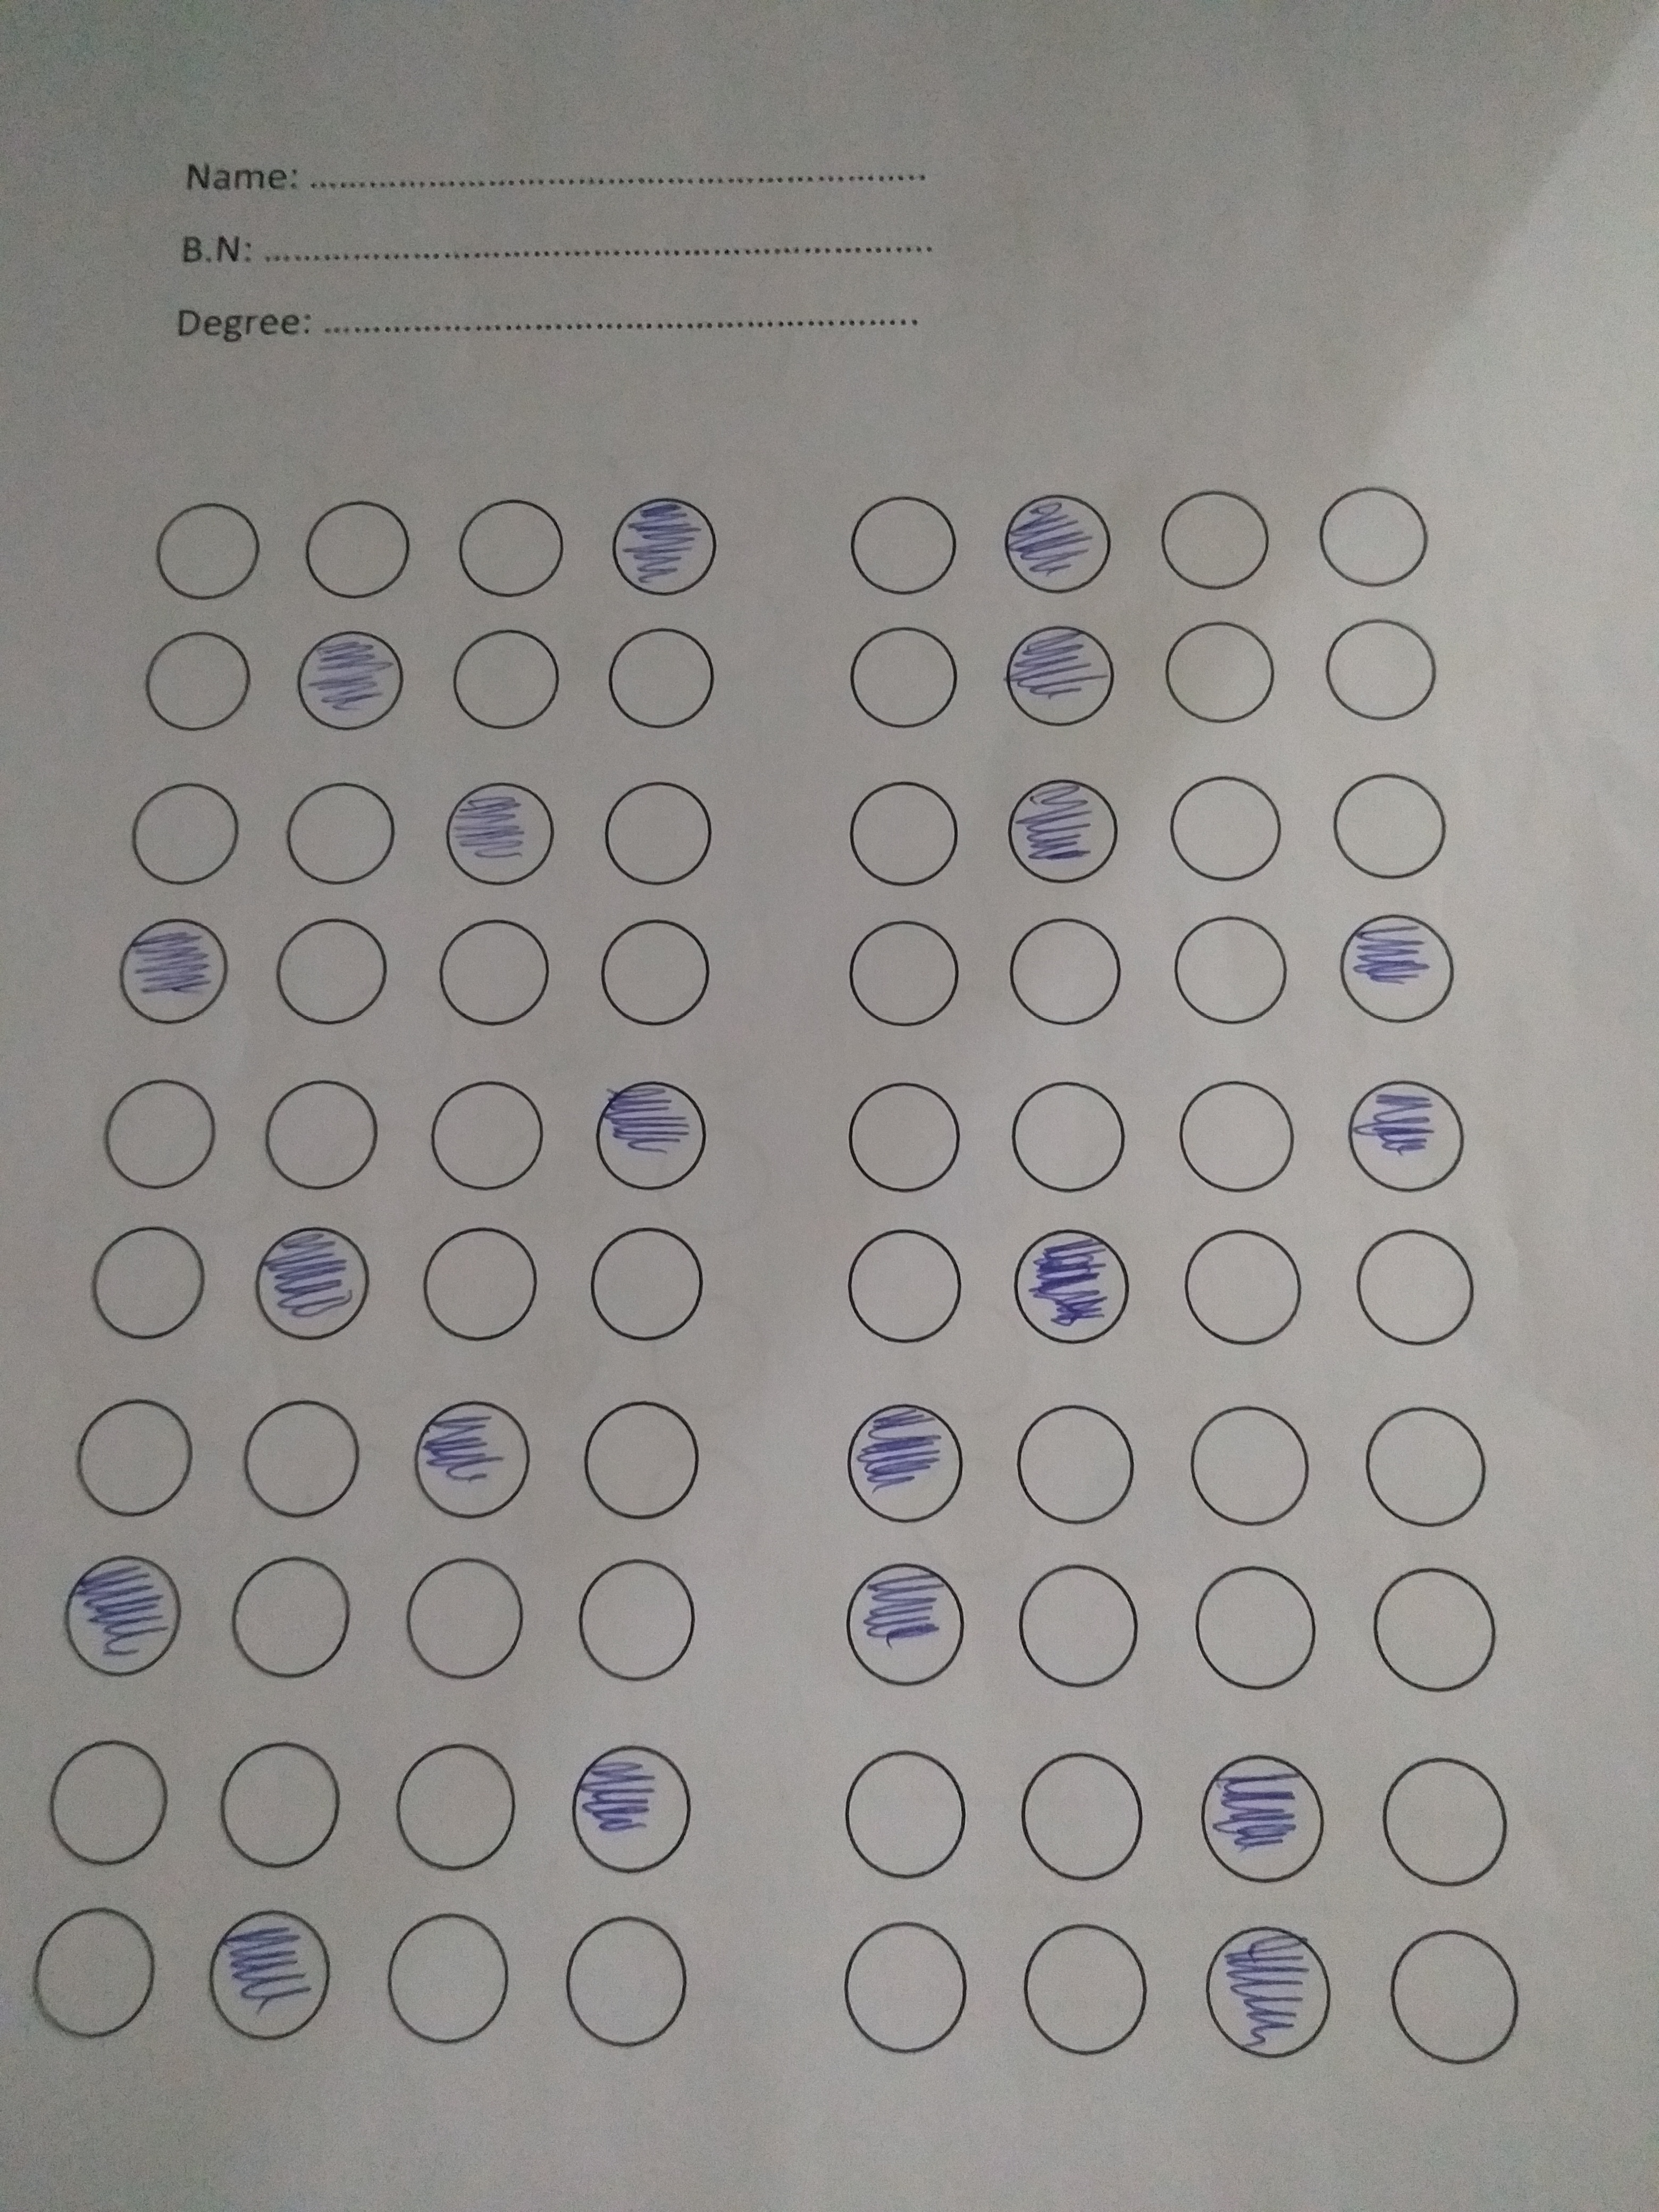not-c: (1021, 1916, 1152, 2062), (1387, 1921, 1518, 2067), (1380, 1747, 1511, 1893), (840, 1914, 971, 2059), (1014, 1747, 1145, 1892), (558, 1905, 688, 2050), (380, 1902, 511, 2047), (214, 1728, 345, 1872), (390, 1733, 521, 1878), (568, 1550, 699, 1695), (842, 1740, 972, 1885), (28, 1905, 157, 2043), (1373, 1561, 1499, 1691), (1014, 1557, 1140, 1688), (71, 1388, 197, 1519), (1195, 1561, 1319, 1691), (1190, 1400, 1314, 1531), (228, 1547, 352, 1677), (239, 1397, 362, 1527), (579, 1397, 702, 1526), (403, 1548, 526, 1677), (1012, 1397, 1136, 1526), (44, 1738, 167, 1867), (1352, 1221, 1478, 1345), (843, 1224, 969, 1348), (1363, 1406, 1490, 1526), (1182, 1226, 1305, 1348), (1175, 1076, 1300, 1195), (1007, 1078, 1136, 1193), (586, 1223, 706, 1343), (420, 1223, 540, 1341), (847, 1078, 969, 1193), (596, 914, 718, 1029), (425, 1080, 549, 1191), (91, 1224, 207, 1341), (840, 489, 962, 601), (1171, 914, 1293, 1026), (1330, 770, 1452, 881), (1159, 617, 1281, 728), (598, 777, 720, 888), (125, 777, 247, 888), (143, 625, 265, 737), (842, 620, 965, 730), (272, 918, 396, 1028), (432, 916, 556, 1026), (1004, 916, 1127, 1026), (847, 918, 971, 1028), (1321, 615, 1445, 725), (1155, 484, 1279, 594), (596, 620, 720, 730), (281, 779, 404, 888), (295, 495, 418, 604), (143, 496, 267, 606), (258, 1078, 380, 1188), (101, 1078, 223, 1188), (842, 777, 964, 887), (1166, 772, 1288, 881), (1314, 481, 1436, 590), (441, 622, 563, 732), (448, 491, 570, 601)
taken-c: (1195, 1921, 1337, 2062), (199, 1905, 336, 2048), (1192, 1752, 1335, 1886), (559, 1742, 695, 1874), (582, 1075, 718, 1204), (833, 1557, 969, 1686), (54, 1552, 190, 1681), (838, 1399, 976, 1526), (1340, 1071, 1476, 1198), (239, 1219, 375, 1346), (1002, 1224, 1138, 1352), (406, 1393, 533, 1522), (1330, 906, 1457, 1028), (1002, 770, 1127, 887), (286, 622, 413, 737), (993, 615, 1121, 730), (113, 913, 237, 1029), (439, 775, 561, 890), (995, 486, 1117, 599), (606, 493, 723, 601)
